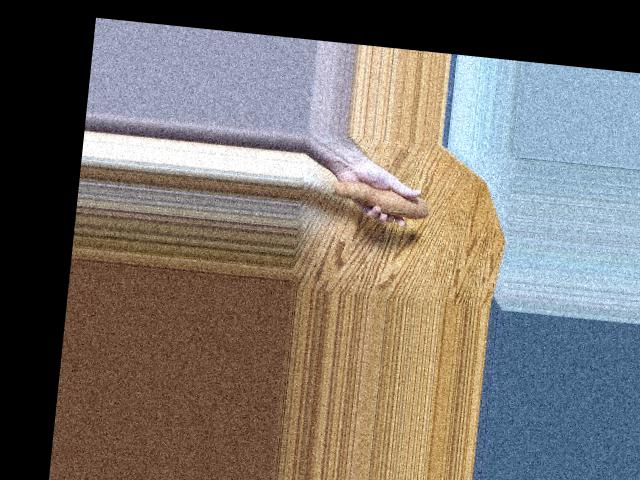sweet_potato: (319, 169, 434, 222)
